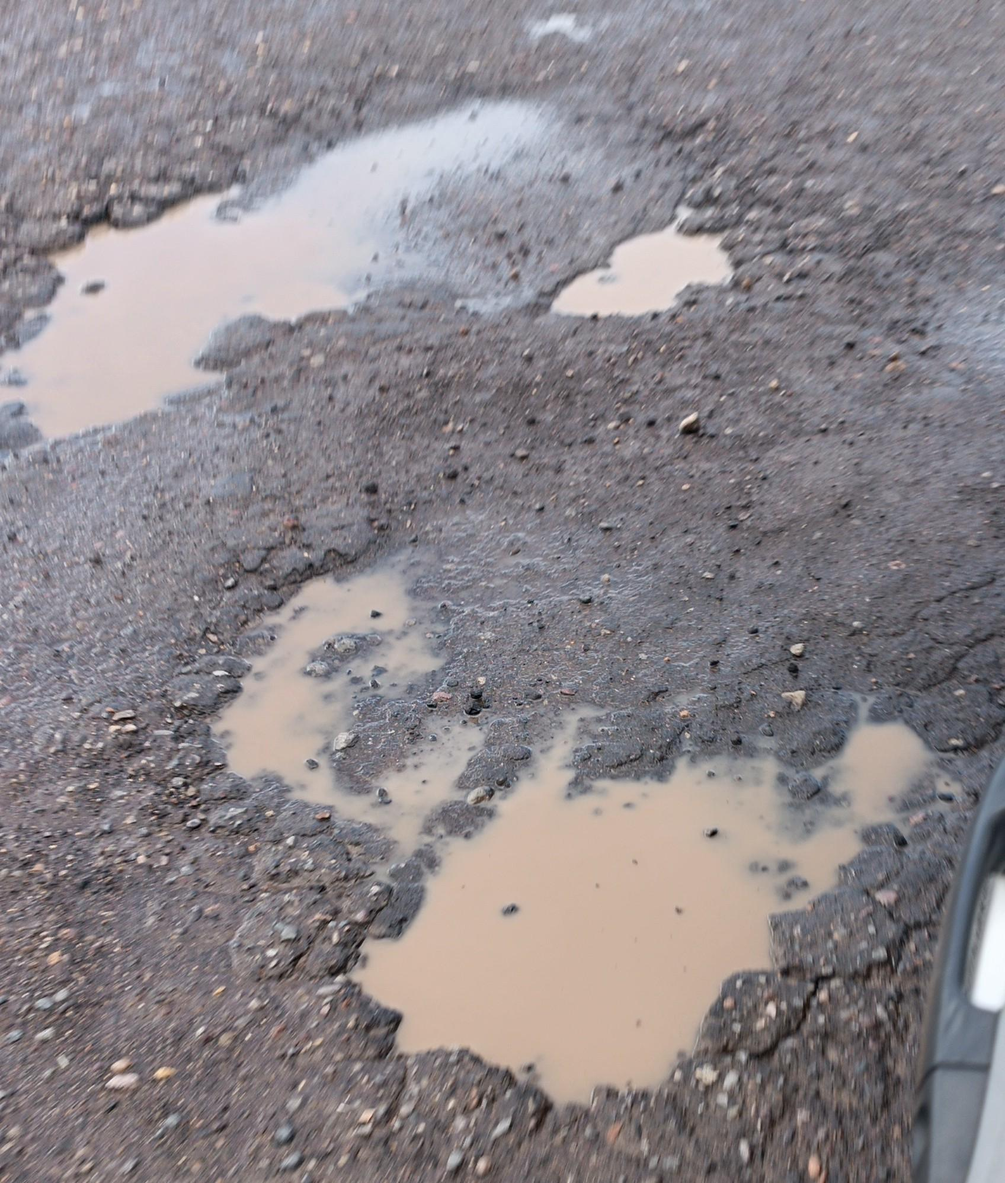BACHE: (357, 716, 959, 1107), (2, 93, 560, 450), (213, 561, 501, 844), (554, 218, 742, 317)
PIEL DE COCODRILO: (691, 858, 954, 1175), (783, 568, 1004, 762), (709, 141, 921, 279)
